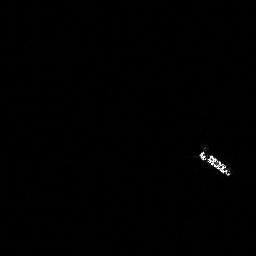ship: (195, 144, 234, 180)
